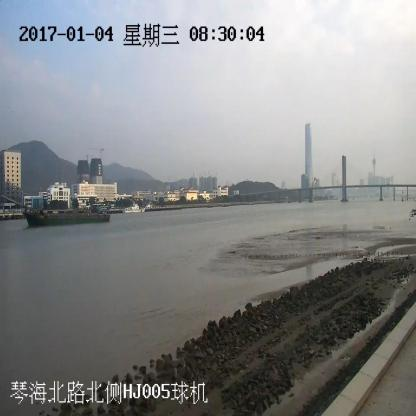Bulk Carrier: (0, 195, 111, 226)
